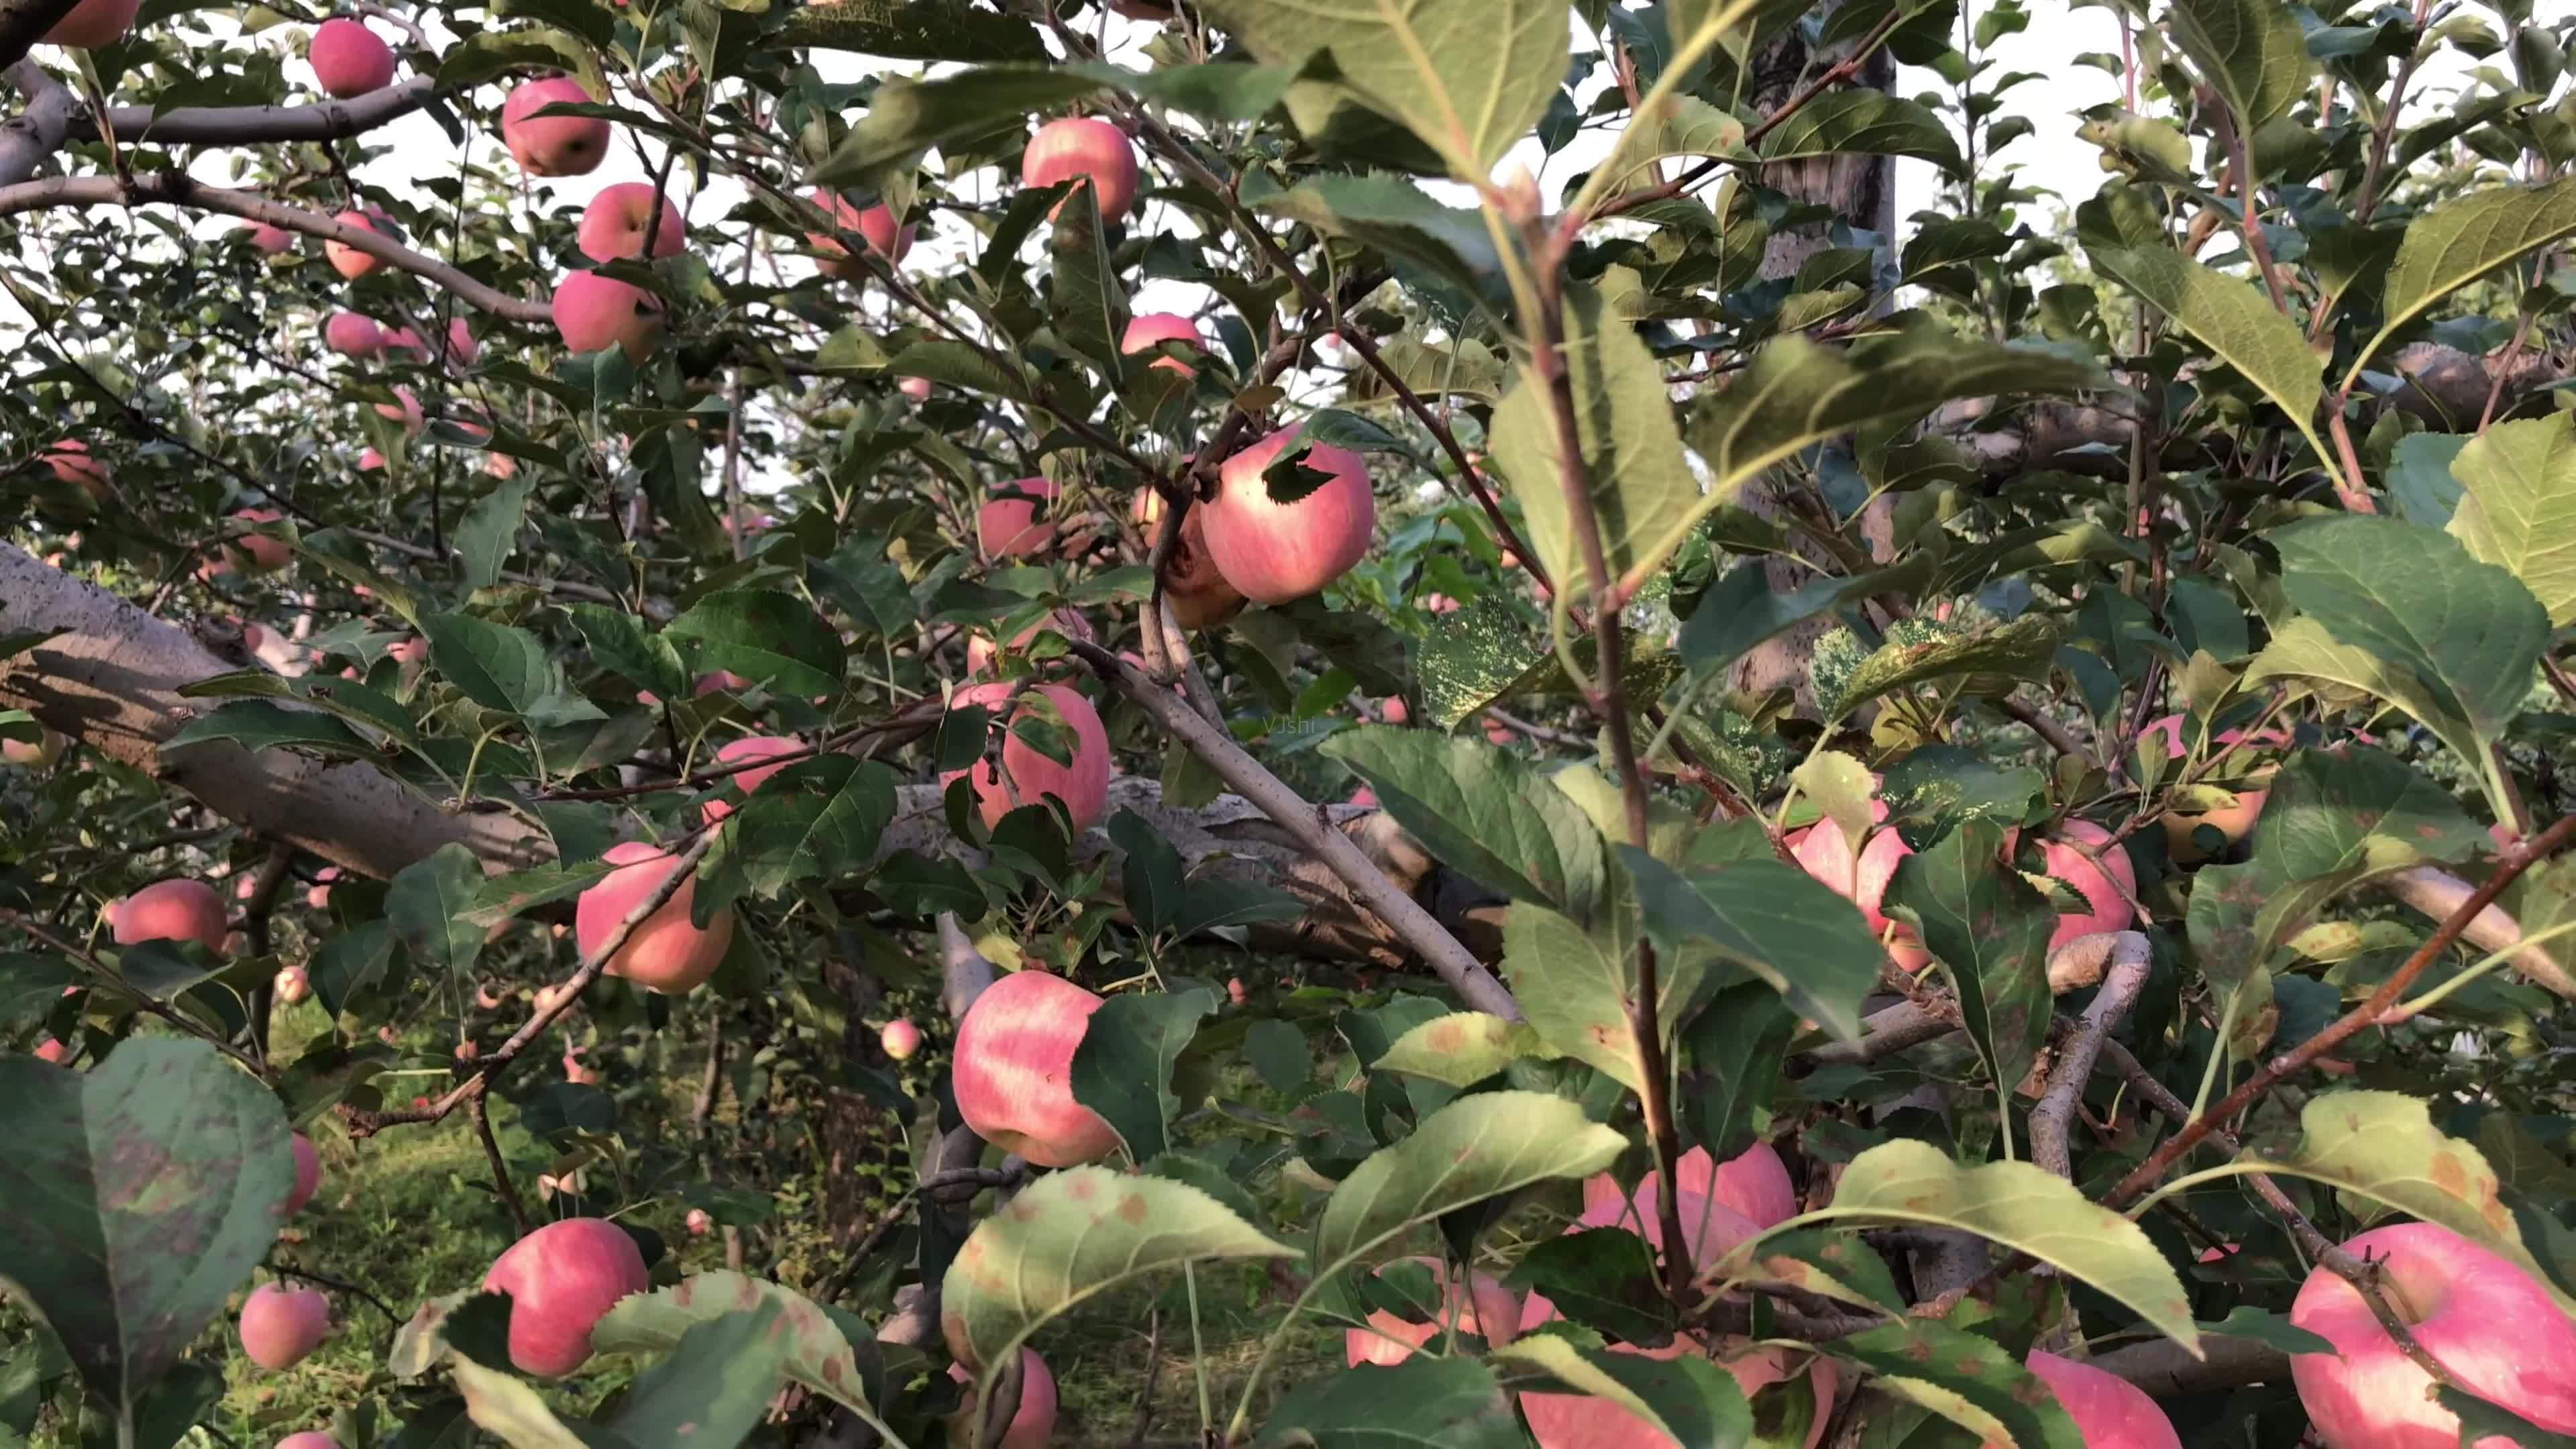apple: (2286, 1221, 2576, 1449), (952, 971, 1154, 1177), (1200, 425, 1375, 603), (478, 1217, 653, 1380), (941, 683, 1108, 842), (575, 842, 738, 1000), (1021, 119, 1141, 237), (566, 184, 683, 294), (497, 81, 619, 180), (552, 269, 667, 363), (99, 881, 234, 959), (241, 1281, 329, 1373), (308, 21, 396, 103)
